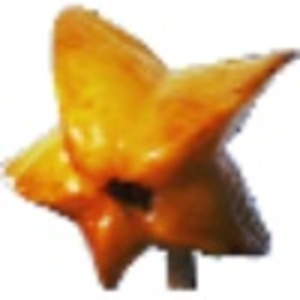carambola: (1, 3, 300, 292)
